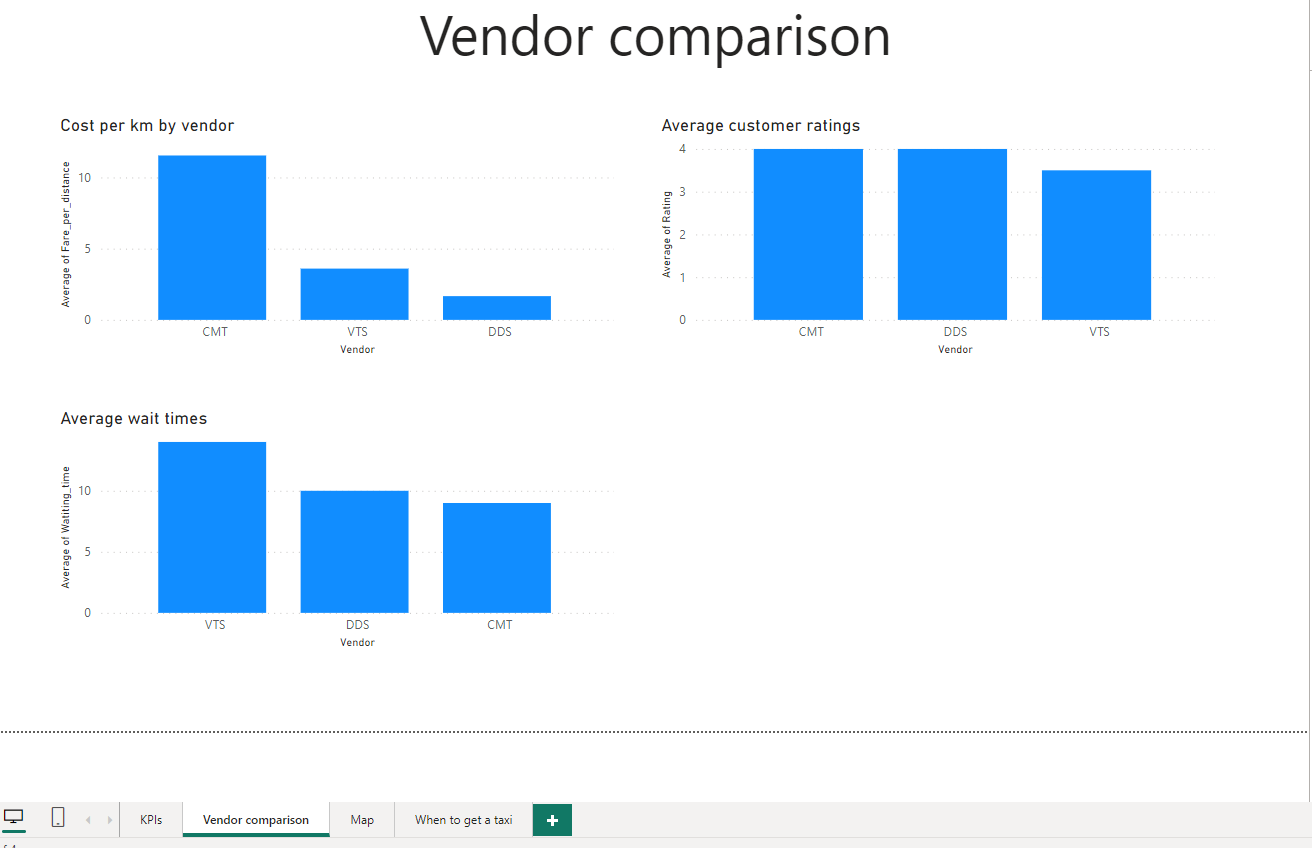

What the dashboard file says about the page in this screenshot:
{"tool":"powerbi","page":{"name":"Vendor comparison","canvas":[1280,720],"ordinal":0},"visuals":[{"type":"clusteredColumnChart","title":"Cost per km by vendor","fields":{"Category":["Trips.Vendor"],"Y":["Avg(Trips.Fare_per_distance)"]},"box":[61.2,121.5,548.2,238.1],"z":0},{"type":"textbox","box":[9.7,0,1270.3,105.9],"z":1000},{"type":"clusteredColumnChart","title":"Average customer ratings","fields":{"Category":["Trips.Vendor"],"Y":["Avg(Trips.Rating)"]},"box":[645.3,121.5,548.2,238.1],"z":2000},{"type":"clusteredColumnChart","title":"Average wait times","fields":{"Category":["Trips.Vendor"],"Y":["Avg(Trips.Watiting_time)"]},"box":[61.2,406.3,548.2,238.1],"z":3000}]}

Visuals, with their boxes on the page's 1280x720 design canvas (x1, y1, x2, y2). These are canvas units, not pixel positions in the 1312x848 screenshot, which may show the page scaled, cropped or inside an application window:
"Cost per km by vendor" clusteredColumnChart: [x1=61, y1=122, x2=609, y2=360]
textbox: [x1=10, y1=0, x2=1280, y2=106]
"Average customer ratings" clusteredColumnChart: [x1=645, y1=122, x2=1194, y2=360]
"Average wait times" clusteredColumnChart: [x1=61, y1=406, x2=609, y2=644]
